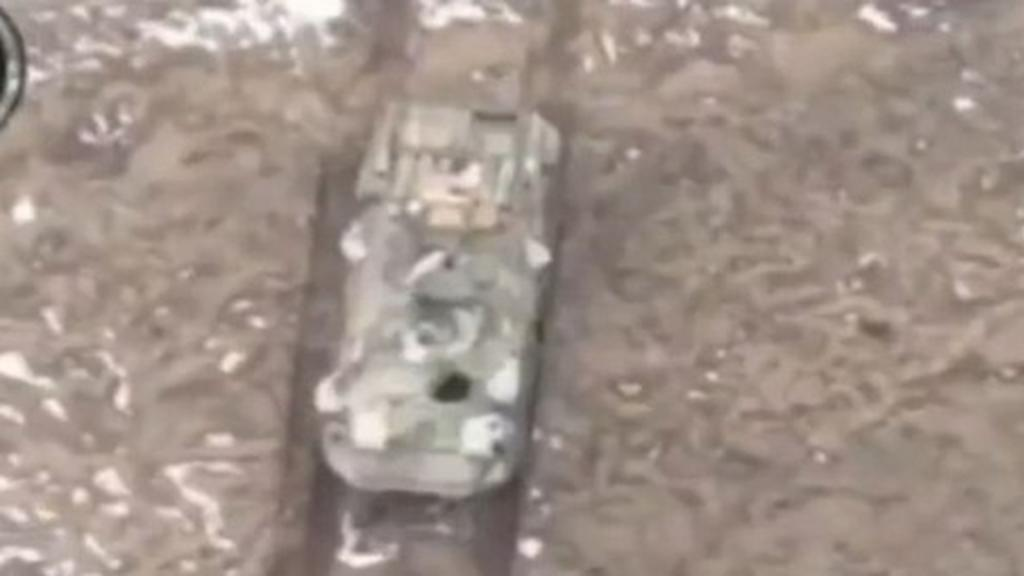APC-IFV: (300, 78, 566, 494)
